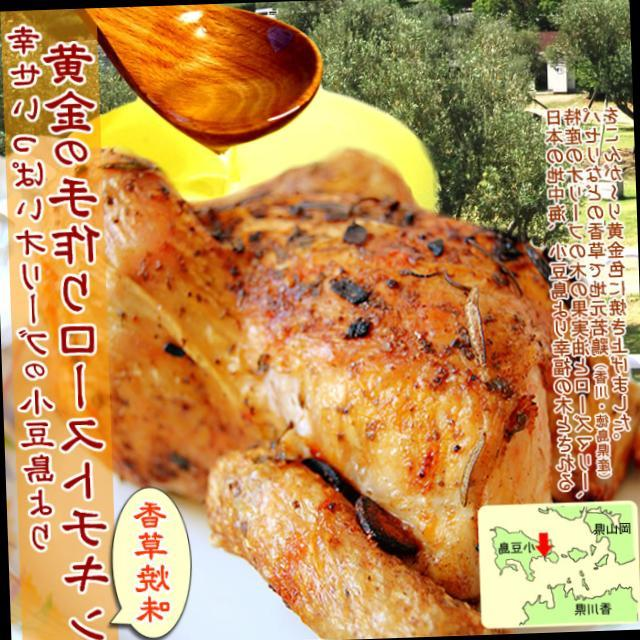Chicken: (115, 158, 536, 486)
